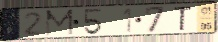1: (122, 7, 133, 34)
2: (23, 11, 44, 37)
5: (83, 7, 103, 36)
7: (144, 6, 167, 34)
M: (44, 8, 75, 38)
T: (172, 5, 194, 32)
